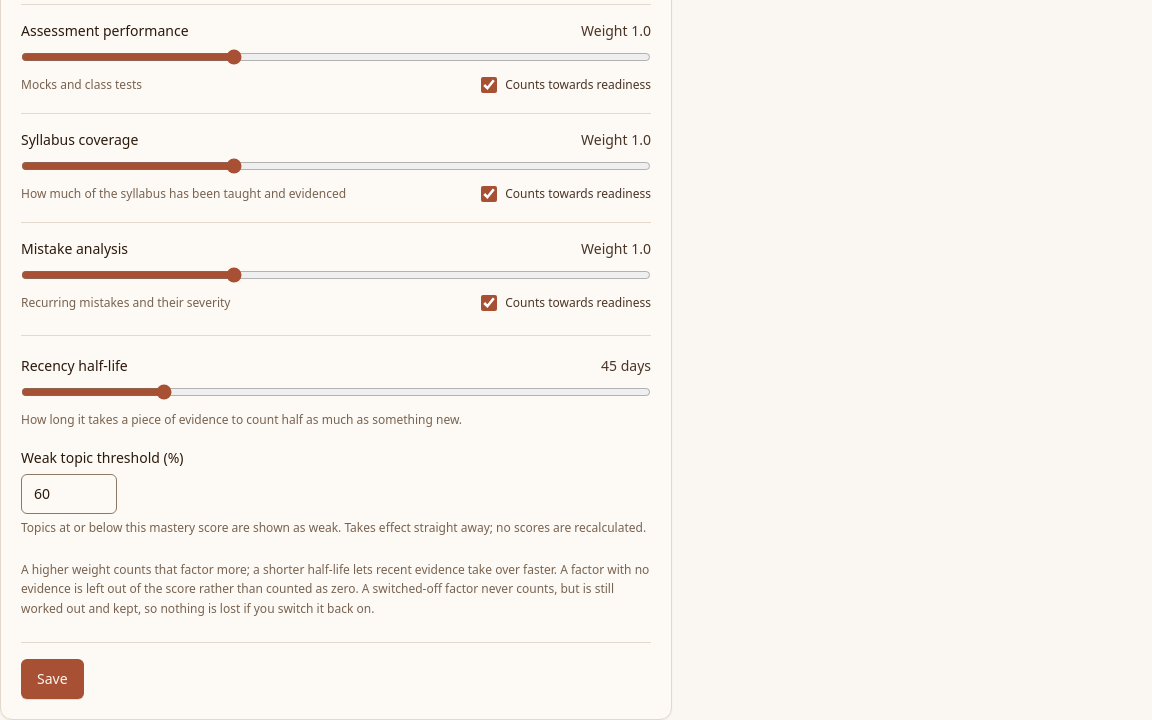
Test case: the server's refusal is shown in its own words
The width and height of the screenshot is (1152, 720).
(page scrolled)
Click the button "Save".
click(52, 679)  # box [21,659,84,699]
(page scrolled)
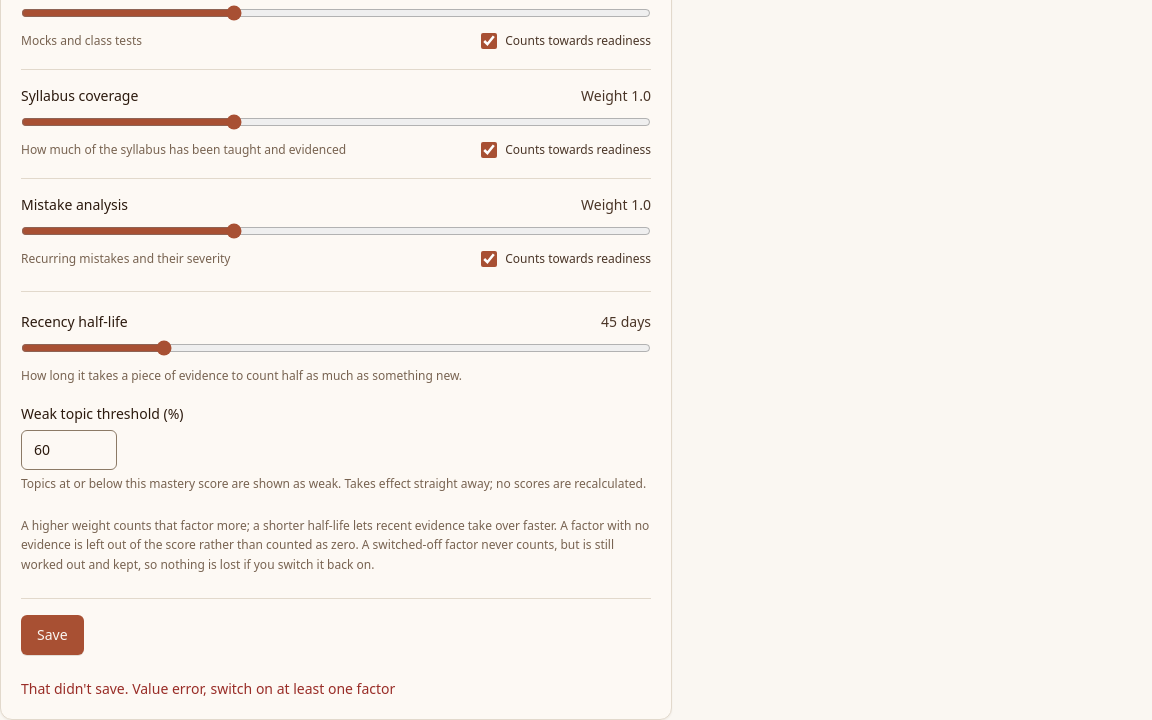
Now the message shows "at least one factor", box [132,679,395,698]
